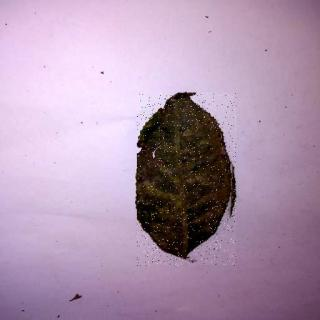Anthracnose: (138, 94, 237, 267)
